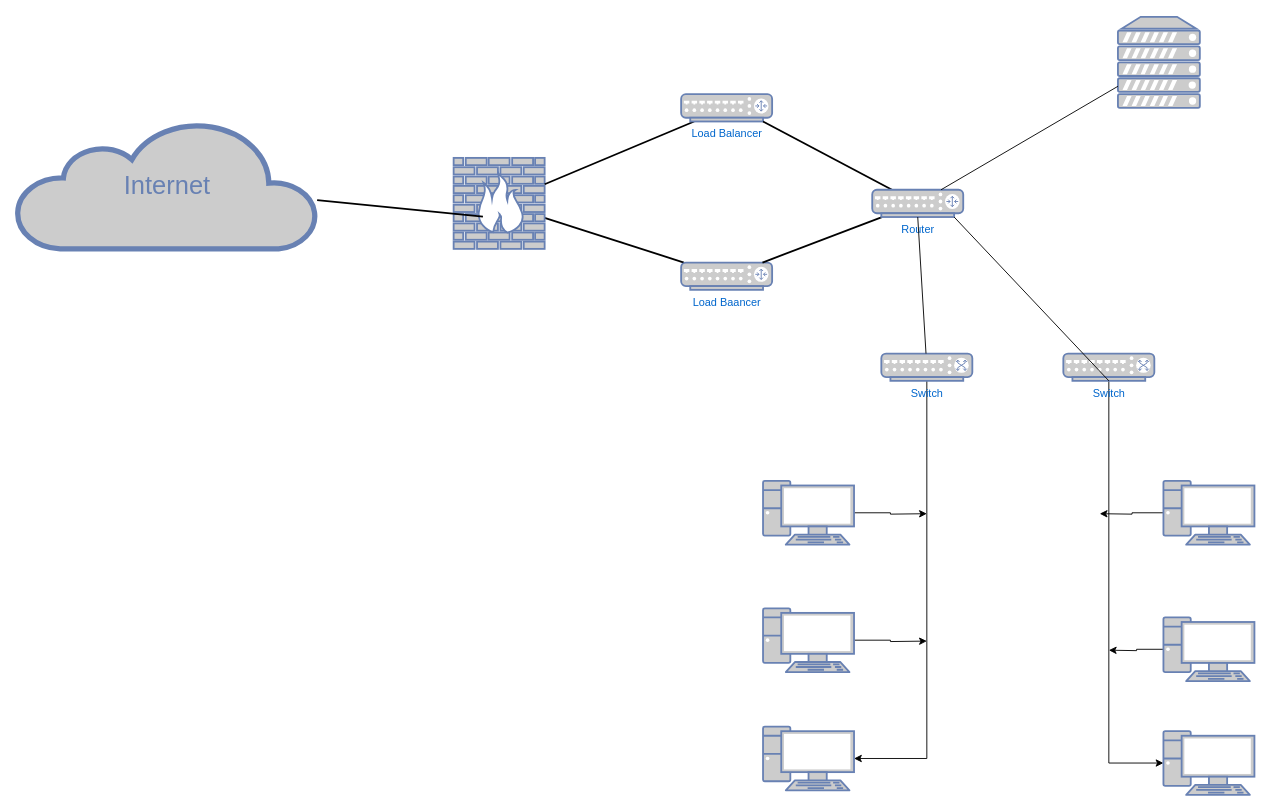
Some shapes in this 1270 by 811 pixel diagram are drawn without their labels. Here are the shapes that lost their labels. From the top down, the centre of each, then its label:
At (x=1158, y=61): "Server".
At (x=498, y=203): "Fiirewall".
